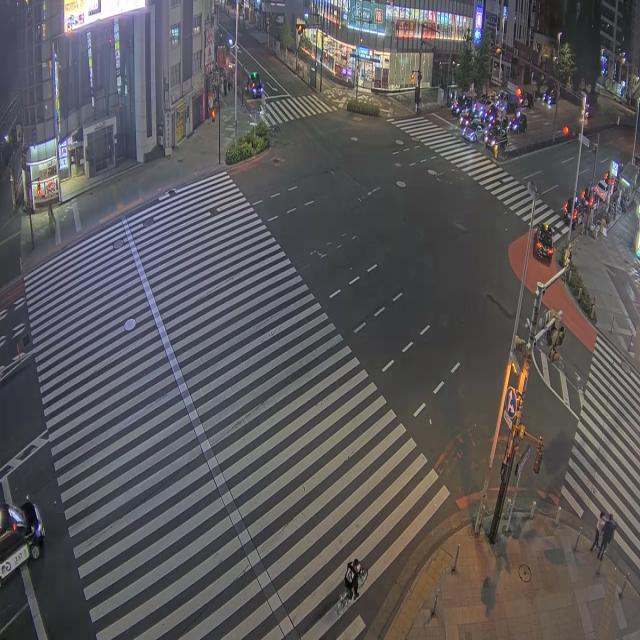car: (0, 497, 44, 583), (562, 197, 586, 227), (534, 224, 553, 261), (484, 125, 507, 149), (462, 120, 485, 142), (459, 103, 478, 126), (451, 95, 471, 115), (247, 72, 262, 98), (509, 111, 526, 133), (476, 99, 493, 117), (593, 180, 606, 201), (543, 87, 557, 106), (519, 93, 534, 108)
